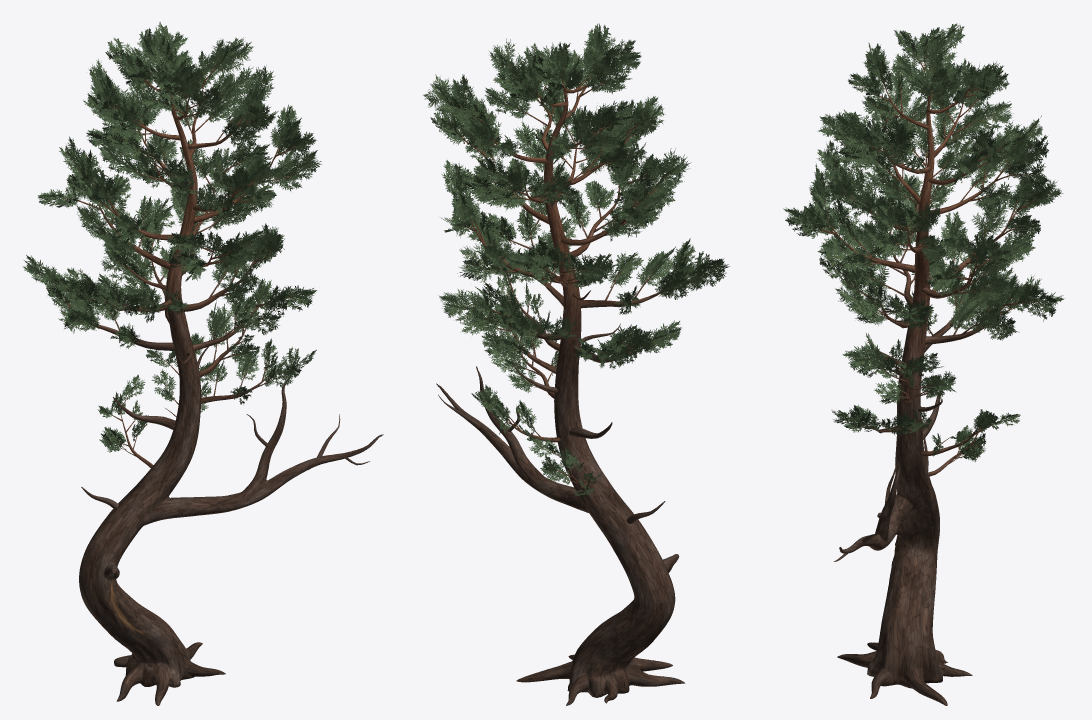
The model's file is pine_crooked.glb.
3 views of the same model, side by side, from view 1: azimuth 30°, elevation 25°; view 2: azimuth 150°, elevation 25°; view 3: azimuth 270°, elevation 25° (orthographic). The views are drawn at different scales.
Parts seen in each view (by area): view 1: Korona · pędy sosnowe, Pień, korzenie i rozwidlony konar, Gałęzie korony i suche odrosty; view 2: Korona · pędy sosnowe, Pień, korzenie i rozwidlony konar, Gałęzie korony i suche odrosty; view 3: Korona · pędy sosnowe, Pień, korzenie i rozwidlony konar, Gałęzie korony i suche odrosty.
Part boxes in pixels (x1,y1,x2,y2): Korona · pędy sosnowe: (23,22,321,452); Pień, korzenie i rozwidlony konar: (79,77,383,705); Gałęzie korony i suche odrosty: (63,57,369,509); Korona · pędy sosnowe: (423,23,729,499); Pień, korzenie i rozwidlony konar: (436,78,684,705); Gałęzie korony i suche odrosty: (438,75,699,523); Korona · pędy sosnowe: (783,23,1064,461); Pień, korzenie i rozwidlony konar: (837,92,972,705); Gałęzie korony i suche odrosty: (817,49,1034,561).
Bounding box in the file's own units: 5.41 × 10.25 × 4.38.
3 materials, 3 textured.
